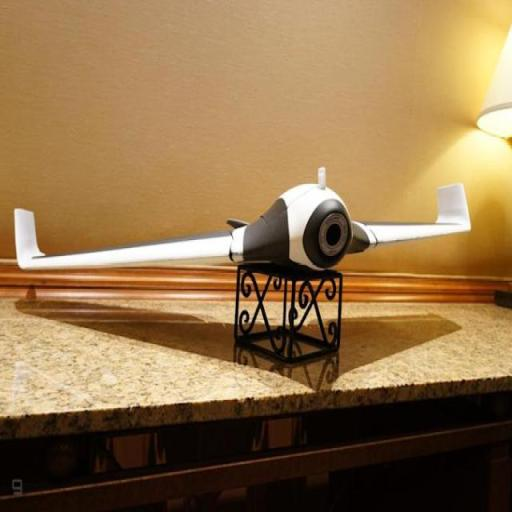uav: (8, 174, 474, 280)
